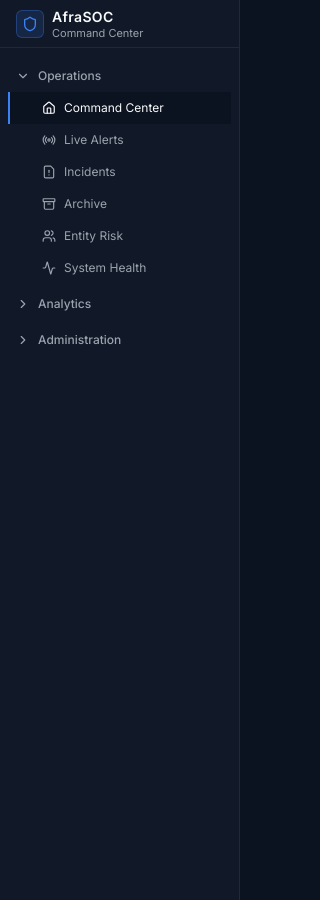
SideNav › expands a section in place and hides Users for a viewer
Expected: the link "Live Alerts" is shown, [42,132,124,147]
Expected: the link "Search" is not shown
Click the button "Analytics".
click(120, 304)  # box [8,288,231,320]
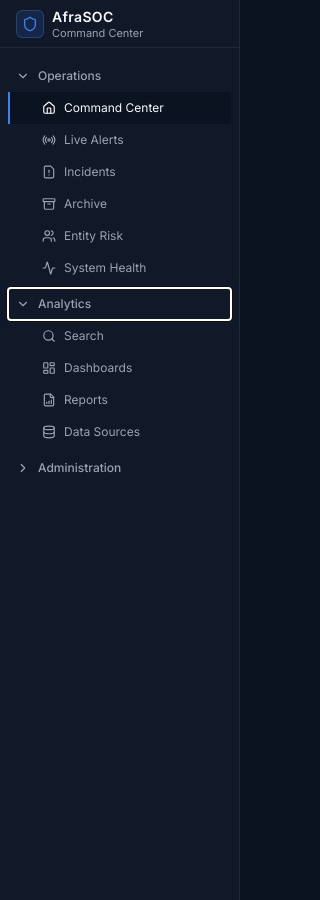
Expected: the link "Live Alerts" is shown, [42,132,124,147]
Now the button "Analytics" is expanded, box [8,288,231,320]
Now the link "Search" is shown, box [42,328,104,343]
